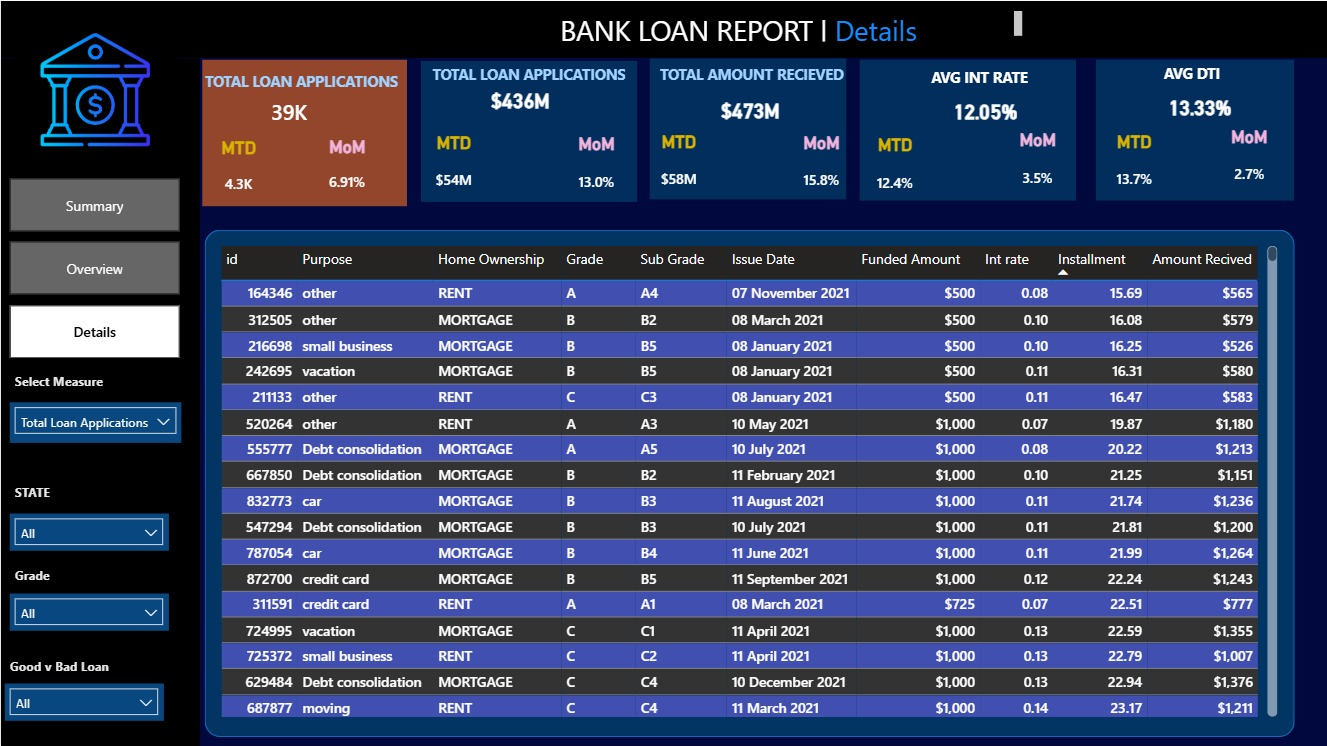

This screenshot's page, from the dashboard's own definition file:
{"tool":"powerbi","page":{"name":"Details","canvas":[1280,720],"ordinal":2},"visuals":[{"type":"shape","box":[0,55.5,192,664.7],"z":0},{"type":"shape","box":[195,56.5,197.9,141.4],"z":0,"group":"g1"},{"type":"cardVisual","title":"MoM","fields":{"Data":["financial_loan.MoM Loan Application"]},"box":[274.3,129.9,120.8,67.2],"z":1000,"group":"g1"},{"type":"shape","box":[196.4,220.6,1051.9,489.6],"z":1000},{"type":"shape","box":[0,0,1280.3,54.9],"z":2000},{"type":"textbox","box":[191.9,62.7,196.2,34.3],"z":2000,"group":"g1"},{"type":"textbox","box":[534,5.4,456,39],"z":3000},{"type":"cardVisual","title":"MTD","fields":{"Data":["financial_loan.MTD Total Amounts Recieved"]},"box":[581.6,124.8,145.5,70],"z":3000,"group":"g4"},{"type":"cardVisual","title":"MTD","fields":{"Data":["financial_loan.MTD Avg DTI"]},"box":[1035.6,125,117.2,70],"z":3000,"group":"g6"},{"type":"cardVisual","title":"MTD","fields":{"Data":["financial_loan.MTD Funded Amounts"]},"box":[364.8,126.5,145.5,70],"z":3000,"group":"g2"},{"type":"cardVisual","title":"MTD","fields":{"Data":["financial_loan.MTD Avg Int Rate"]},"box":[790.2,129,145.5,70],"z":3000,"group":"g5"},{"type":"cardVisual","title":"MTD","fields":{"Data":["financial_loan.MTD Loan Applications"]},"box":[153.5,131.3,152.3,67.2],"z":3000,"group":"g1"},{"type":"shape","box":[405.2,57.9,208.7,136],"z":4000},{"type":"cardVisual","fields":{"Data":["financial_loan.Total Loan Applications"]},"box":[205.3,80.5,146.8,50.8],"z":4000,"group":"g1"},{"type":"group","id":"g1","title":"Group 1","box":[153.5,56.5,241,141.4],"z":5000},{"type":"textbox","box":[1117.9,55.2,158,34.3],"z":5750,"group":"g6"},{"type":"textbox","box":[411.5,56.5,196.2,34.3],"z":5750,"group":"g2"},{"type":"textbox","box":[631.2,56.5,195.2,33.7],"z":5750,"group":"g4"},{"type":"textbox","box":[892.3,59.2,196.2,34.3],"z":5750,"group":"g5"},{"type":"textbox","box":[374.5,337.9,45.6,7.7],"z":5750,"group":"g3"},{"type":"cardVisual","fields":{"Data":["financial_loan.Total Funded Amount"]},"box":[444.4,63.4,196.2,63.1],"z":5812,"group":"g2"},{"type":"cardVisual","fields":{"Data":["financial_loan.Avg DTI"]},"box":[1098.6,71.1,175,63.3],"z":5812,"group":"g6"},{"type":"cardVisual","fields":{"Data":["financial_loan.Total Amount Recived"]},"box":[666.2,73.9,196.6,63.3],"z":5812,"group":"g4"},{"type":"cardVisual","fields":{"Data":["financial_loan.Avg Interest Rate"]},"box":[890.6,75.2,196.2,63.1],"z":5812,"group":"g5"},{"type":"group","id":"g2","title":"Group 2","box":[364.8,56.5,289.4,141.4],"z":6000},{"type":"cardVisual","title":"MoM","fields":{"Data":["financial_loan.MoM Avg DTI"]},"box":[1141.7,120.3,127.1,70],"z":6000,"group":"g6"},{"type":"cardVisual","title":"MoM","fields":{"Data":["financial_loan.MoM Avg Int Rate"]},"box":[922,124.3,157.8,70],"z":6000,"group":"g5"},{"type":"cardVisual","title":"MoM","fields":{"Data":["financial_loan.MoM Total Amounts Recieved"]},"box":[713.3,126.2,157.8,70],"z":6000,"group":"g4"},{"type":"cardVisual","title":"MoM","fields":{"Data":["financial_loan.MoM Total Funded Amounts"]},"box":[496.5,127.9,157.8,70],"z":6000,"group":"g2"},{"type":"shape","box":[626,55.2,189.8,136],"z":7000},{"type":"shape","box":[829.3,56.5,208.7,136],"z":8000},{"type":"group","id":"g3","title":"Group 2","box":[374.5,337.9,45.6,7.7],"z":9000},{"type":"shape","box":[1056.8,56.5,191.2,136],"z":10000},{"type":"group","id":"g4","title":"Group 2","box":[581.6,56.5,289.4,140],"z":11000},{"type":"group","id":"g5","title":"Group 2","box":[790.2,59.2,297.5,140],"z":12000},{"type":"group","id":"g6","title":"Group 2","box":[1035.6,55.2,240.3,139.8],"z":13000},{"type":"slicer","fields":{"Values":["financial_loan.address_state"]},"box":[8.1,495,153.3,36.3],"z":14000},{"type":"textbox","box":[8.1,460,72.6,35],"z":15000},{"type":"textbox","box":[8.1,539.4,67.3,32.3],"z":16000},{"type":"textbox","box":[4,626.8,153.3,32.3],"z":17000},{"type":"slicer","fields":{"Values":["financial_loan.Good vs Bad Loan"]},"box":[4,659.1,153.3,36.3],"z":18000},{"type":"slicer","fields":{"Values":["financial_loan.grade"]},"box":[8.1,571.7,153.3,36.3],"z":19000},{"type":"slicer","fields":{"Values":["Select Measure.Select Measure"]},"box":[8.1,387.4,165.4,39],"z":20000},{"type":"textbox","box":[8.1,352.4,125.1,35],"z":21000},{"type":"tableEx","fields":{"Values":["financial_loan.id","financial_loan.purpose","financial_loan.home_ownership","financial_loan.grade","financial_loan.sub_grade","financial_loan.issue_date","financial_loan.Total Funded Amount","Sum(financial_loan.int_rate)","Sum(financial_loan.installment)","financial_loan.Total Amount Recived"]},"box":[205.8,231.4,1030.4,464.1],"z":22000},{"type":"pageNavigator","box":[8.1,170.8,164.1,174.9],"z":23000},{"type":"image","box":[12.1,0,157.4,180.2],"z":24000}]}

Visuals, with their boxes in screenshot pixels (x1, y1, x2, y2), scaled from the page's 1280x720 canvas onto the 1327x746 screenshot:
shape: (0,58,199,745)
shape: (202,59,407,205)
"MoM" cardVisual: (284,135,410,204)
shape: (204,229,1294,736)
shape: (0,0,1326,57)
textbox: (199,65,402,101)
textbox: (554,6,1026,46)
"MTD" cardVisual: (603,129,754,202)
"MTD" cardVisual: (1074,130,1195,202)
"MTD" cardVisual: (378,131,529,204)
"MTD" cardVisual: (819,134,970,206)
"MTD" cardVisual: (159,136,317,206)
shape: (420,60,636,201)
cardVisual - financial_loan.Total Loan Applications: (213,83,365,136)
"Group 1" group: (159,59,409,205)
textbox: (1159,57,1323,93)
textbox: (427,59,630,94)
textbox: (654,59,857,93)
textbox: (925,61,1128,97)
textbox: (388,350,436,358)
cardVisual - financial_loan.Total Funded Amount: (461,66,664,131)
cardVisual - financial_loan.Avg DTI: (1139,74,1320,139)
cardVisual - financial_loan.Total Amount Recived: (691,77,894,142)
cardVisual - financial_loan.Avg Interest Rate: (923,78,1127,143)
"Group 2" group: (378,59,678,205)
"MoM" cardVisual: (1184,125,1315,197)
"MoM" cardVisual: (956,129,1119,201)
"MoM" cardVisual: (739,131,903,203)
"MoM" cardVisual: (515,133,678,205)
shape: (649,57,846,198)
shape: (860,59,1076,199)
"Group 2" group: (388,350,436,358)
shape: (1096,59,1294,199)
"Group 2" group: (603,59,903,204)
"Group 2" group: (819,61,1128,206)
"Group 2" group: (1074,57,1323,202)
slicer - financial_loan.address_state: (8,513,167,550)
textbox: (8,477,84,513)
textbox: (8,559,78,592)
textbox: (4,649,163,683)
slicer - financial_loan.Good vs Bad Loan: (4,683,163,721)
slicer - financial_loan.grade: (8,592,167,630)
slicer - Select Measure.Select Measure: (8,401,180,442)
textbox: (8,365,138,401)
tableEx - financial_loan.id x financial_loan.purpose: (213,240,1282,721)
pageNavigator: (8,177,179,358)
image: (13,0,176,187)
